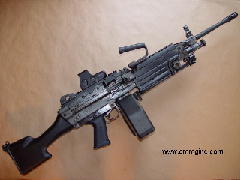rifle: (2, 10, 234, 173)
